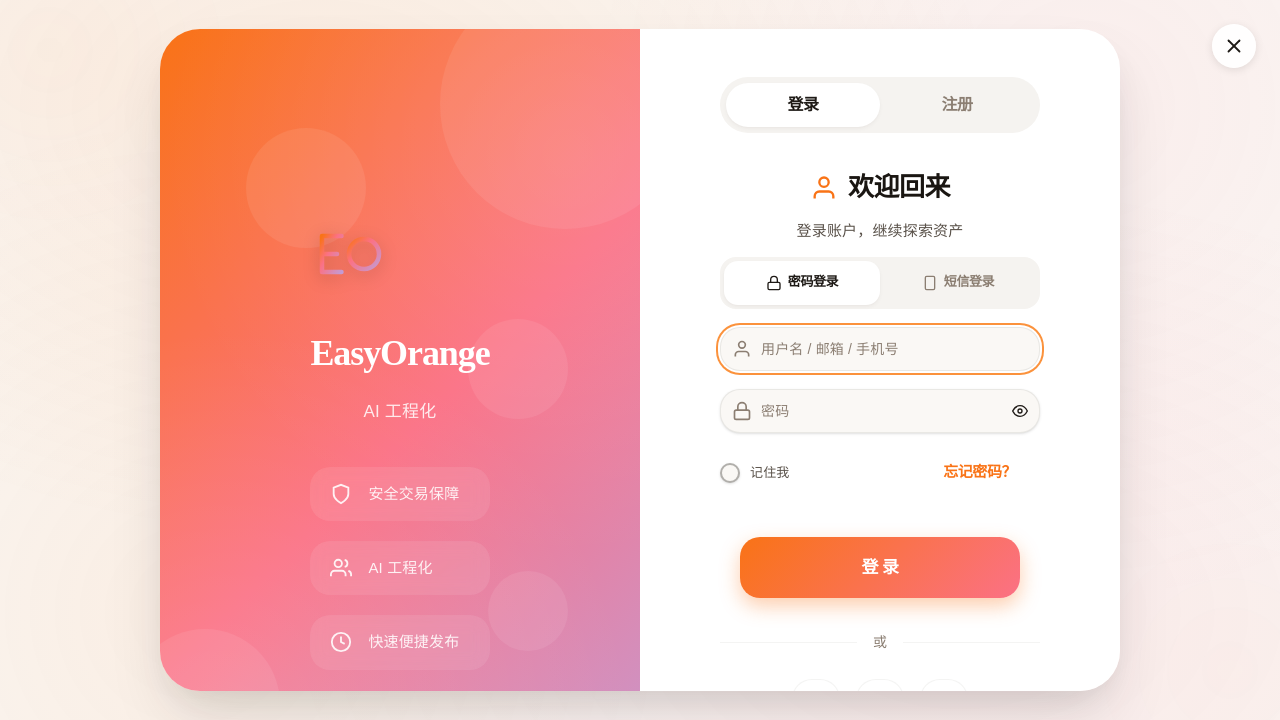
Test: LoginPage › switches to SMS login method
The width and height of the screenshot is (1280, 720).
Click the button "短信登录". click: [958, 282]
box: [880,260,1036,304]
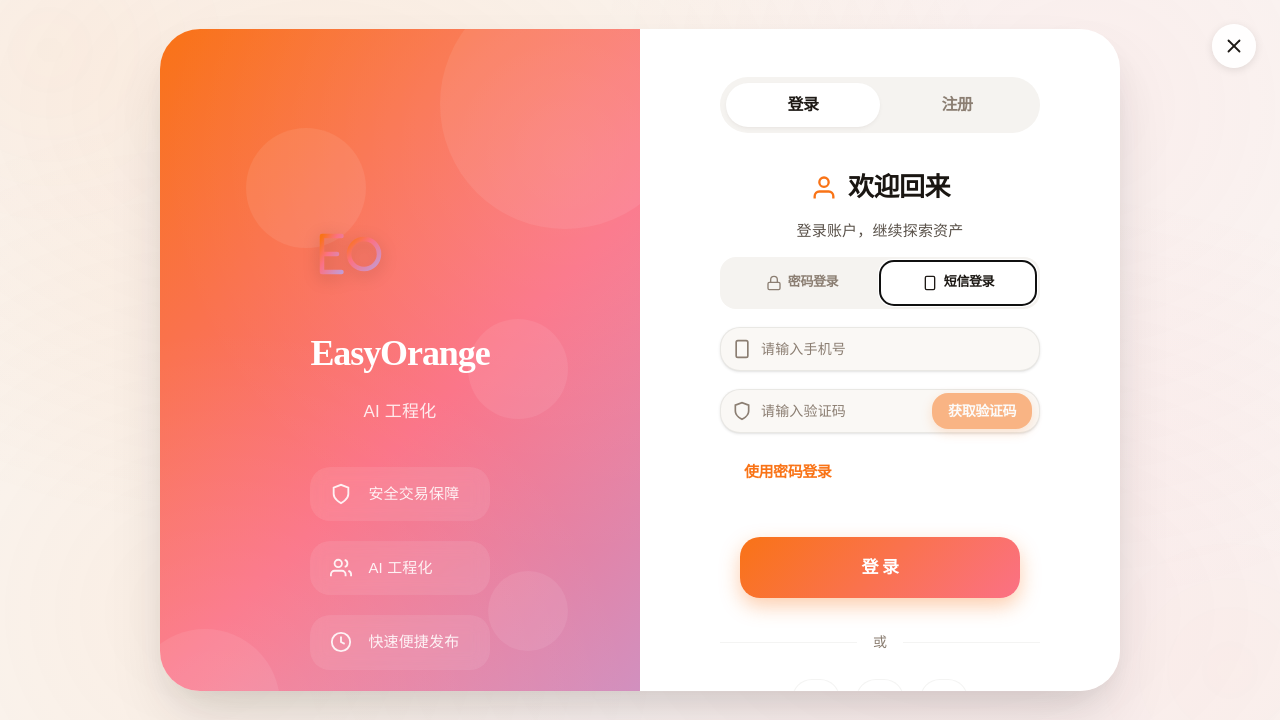
Check: the field with placeholder "请输入手机号" is shown, box [720,326,1040,370]
Check: the button "获取验证码" is shown, box [932,392,1032,428]
Check: the password field with test id "input-password" is gone
